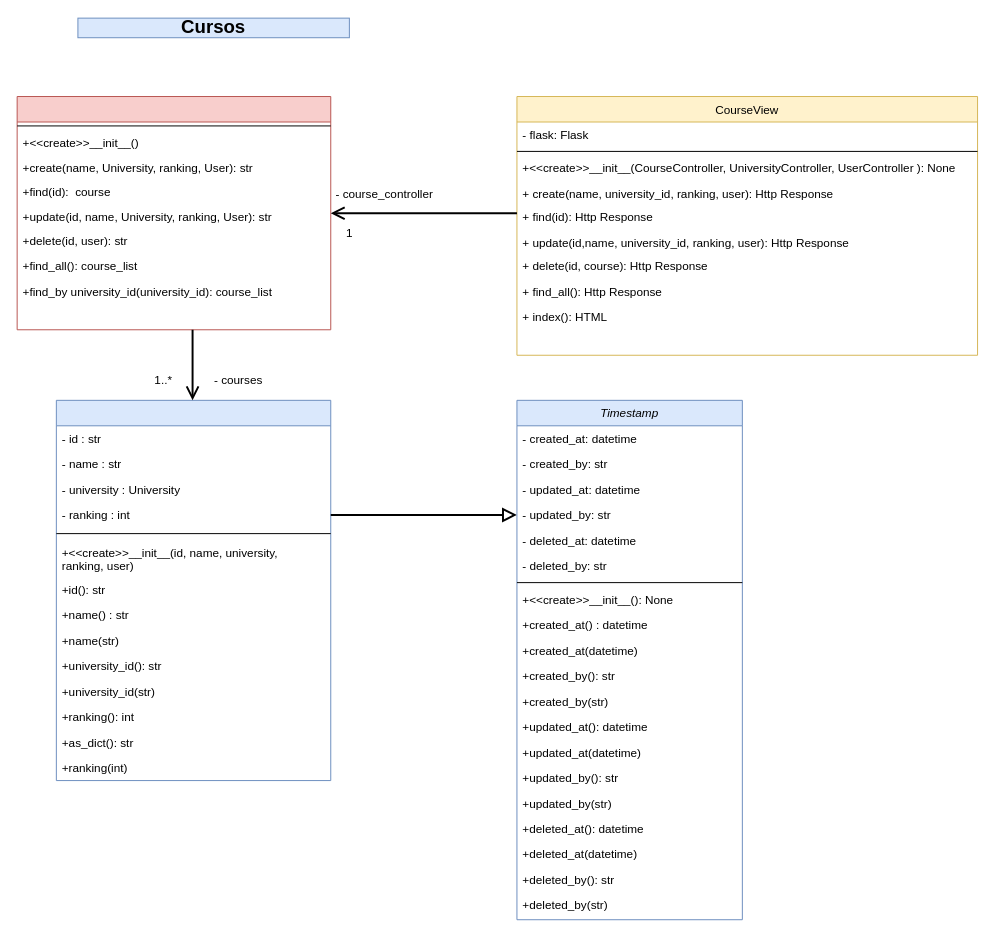
Image size: 995x938. Some labels were removed from this diagram. The box of each missing label's shape, as (x1, y1, x2, y2) in pixels:
CourseController: (16, 96, 331, 330)
CourseModel: (55, 399, 331, 781)
